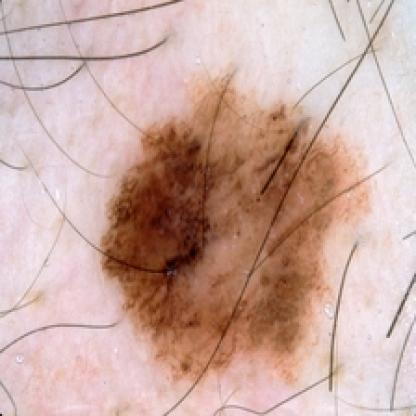Skin_Cancer-Malignant: (97, 61, 371, 390)
